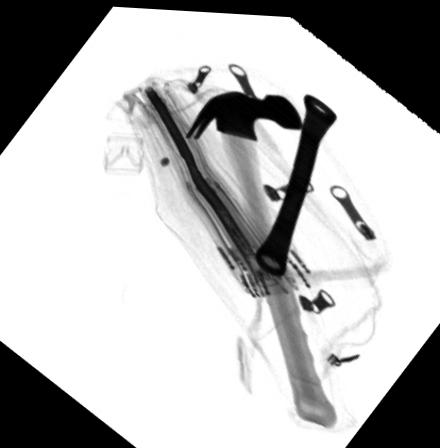Hammer: (184, 85, 338, 425)
Wrench: (250, 86, 336, 273)
